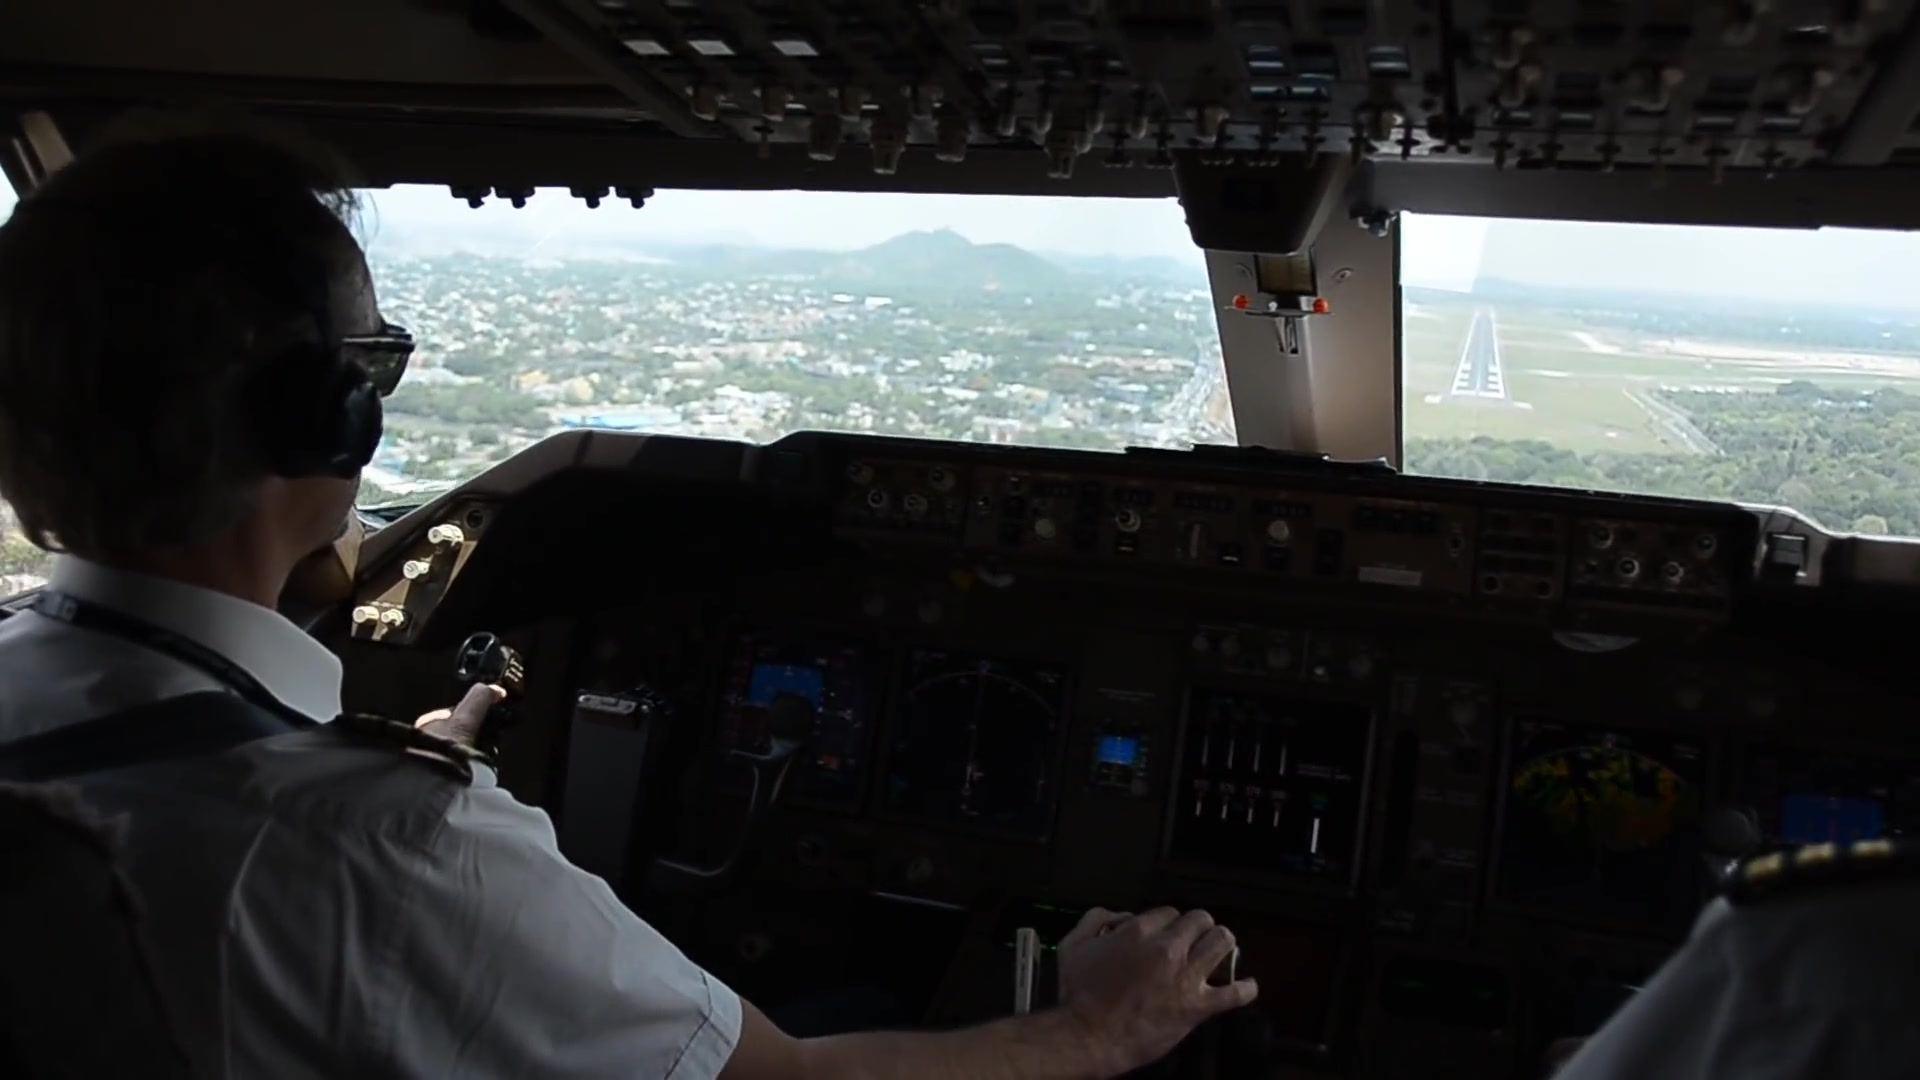runway: (1443, 309, 1515, 405)
